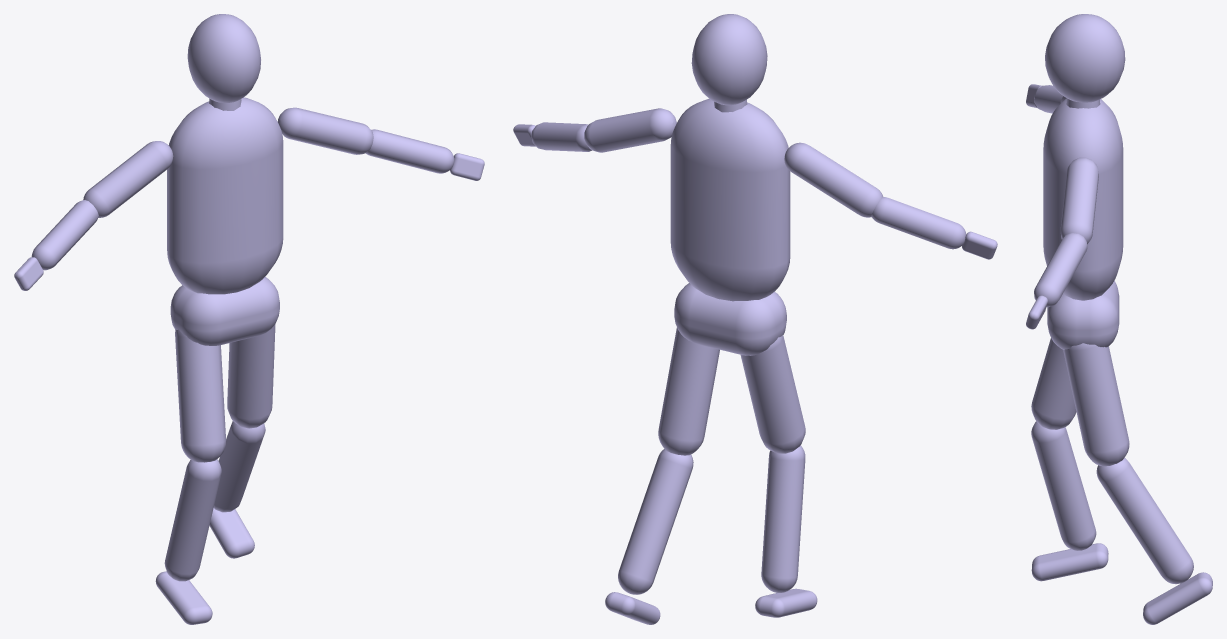
Rendered from mannequin-childTread.glb.
The picture shows the model from 3 angles, left to right: view 1: azimuth 30°, elevation 25°; view 2: azimuth 150°, elevation 25°; view 3: azimuth 270°, elevation 25°; orthographic projection. The views are drawn at different scales.
Visible parts, largest first — view 1: chest, thighR, pelvis, headMesh, shinR, thighL, upperArmR, upperArmL, shinL, foreArmL, foreArmR, footR (+3 smaller); view 2: chest, pelvis, headMesh, shinL, thighL, shinR, thighR, upperArmR, upperArmL, foreArmR, foreArmL, footR (+2 smaller); view 3: chest, headMesh, thighL, shinL, shinR, pelvis, thighR, upperArmL, foreArmL, footR, footL, foreArmR (+1 smaller).
Boxes of the visible parts, box(x1,y1,x2,y2) form: chest: box(167, 97, 283, 294); thighR: box(175, 329, 226, 462); pelvis: box(170, 276, 279, 345); headMesh: box(187, 14, 260, 102); shinR: box(164, 459, 221, 581); thighL: box(227, 323, 275, 428); upperArmR: box(83, 141, 173, 217); upperArmL: box(277, 107, 373, 154); shinL: box(213, 421, 265, 512); foreArmL: box(366, 129, 454, 173); foreArmR: box(31, 200, 98, 270); footR: box(155, 571, 212, 624); chest: box(670, 98, 790, 301); pelvis: box(674, 283, 786, 355); headMesh: box(691, 14, 767, 105); shinL: box(618, 449, 693, 594); thighL: box(658, 328, 719, 455); shinR: box(761, 445, 805, 592); thighR: box(740, 335, 805, 453); upperArmR: box(784, 142, 883, 217); upperArmL: box(584, 108, 676, 152); foreArmR: box(871, 197, 966, 249); foreArmL: box(531, 122, 591, 151); footR: box(755, 588, 817, 617); chest: box(1043, 98, 1123, 300); headMesh: box(1045, 14, 1125, 102); thighL: box(1063, 343, 1129, 466); shinL: box(1096, 458, 1193, 584); shinR: box(1031, 421, 1096, 550); pelvis: box(1047, 280, 1119, 349); thighR: box(1031, 338, 1076, 429); upperArmL: box(1060, 157, 1098, 244); foreArmL: box(1034, 233, 1087, 307); footR: box(1031, 543, 1108, 581); footL: box(1143, 572, 1212, 624); foreArmR: box(1034, 85, 1062, 113).
Bounding box in the file's own units: 1.17 × 1.38 × 0.4007.
